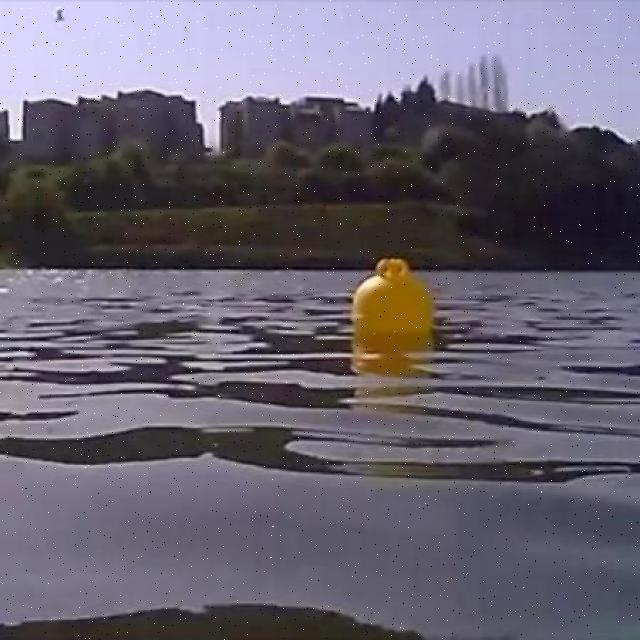buoy: (352, 258, 434, 341)
